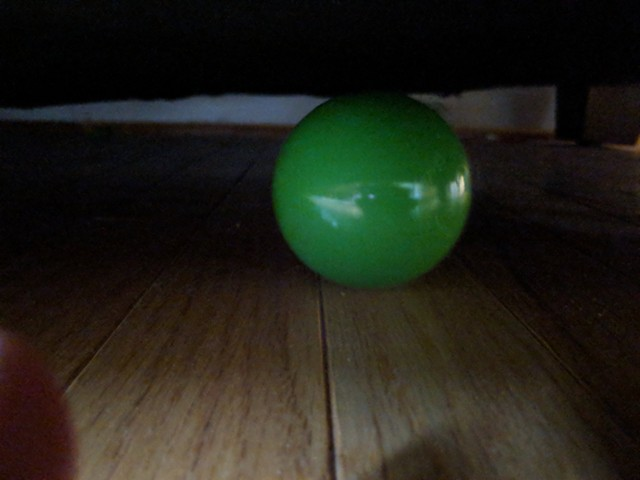Ball: (273, 96, 471, 292)
